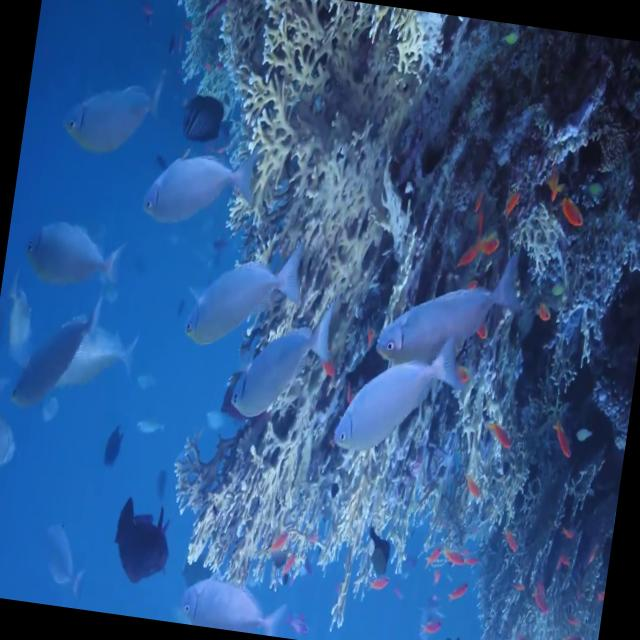fish: (374, 242, 528, 382), (334, 326, 462, 466), (180, 226, 308, 357), (230, 293, 335, 422), (138, 132, 257, 244), (9, 285, 104, 413), (58, 61, 166, 168), (20, 214, 127, 294), (175, 572, 288, 634), (106, 496, 173, 590)
